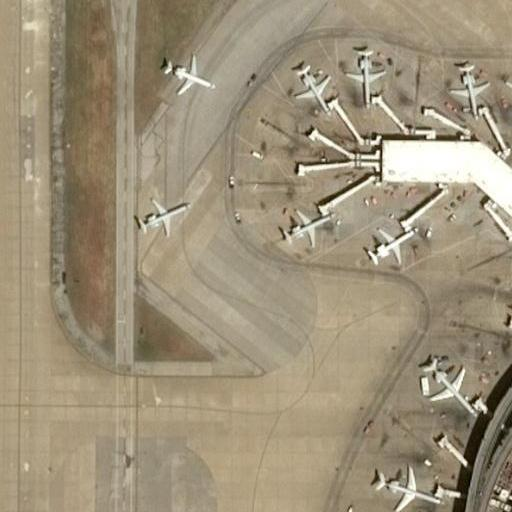Aircraft: (418, 352, 473, 414), (370, 461, 432, 512), (345, 42, 393, 102), (282, 55, 330, 114), (449, 57, 490, 117), (159, 53, 214, 94), (364, 220, 417, 262), (136, 189, 188, 231), (279, 203, 331, 243), (501, 52, 512, 115)
